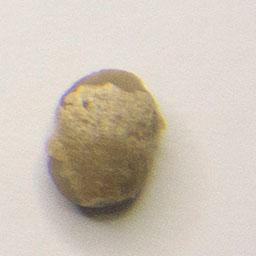peaberry: (42, 65, 170, 216)
